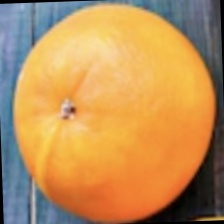orange: (61, 8, 201, 196)
